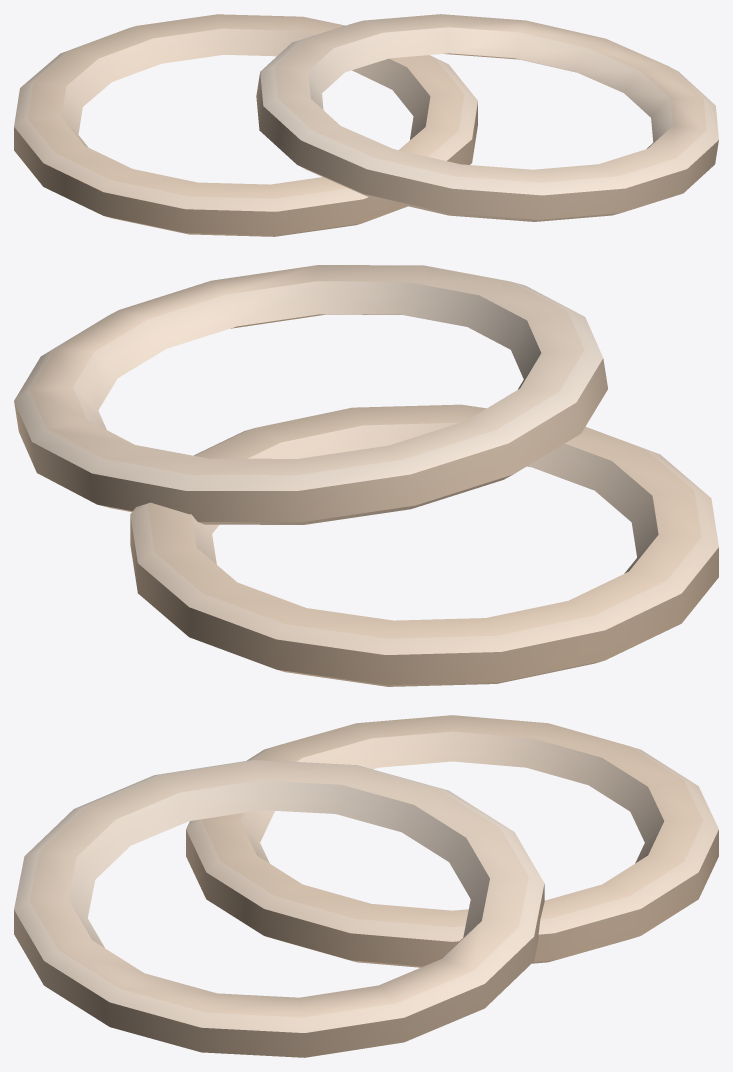
Rendered from ing_onion_rings.glb.
3 renders of one model, top to bottom at view 1: azimuth 30°, elevation 25°; view 2: azimuth 150°, elevation 25°; view 3: azimuth 270°, elevation 25°, orthographic. The views are drawn at different scales.
Visible parts, largest first — view 1: food_ingredient_onion_rings_Sphere.063; view 2: food_ingredient_onion_rings_Sphere.063; view 3: food_ingredient_onion_rings_Sphere.063.
Part boxes in pixels (left/top/right/bottom): food_ingredient_onion_rings_Sphere.063: left=14, top=14, right=718, bottom=236; food_ingredient_onion_rings_Sphere.063: left=14, top=265, right=718, bottom=686; food_ingredient_onion_rings_Sphere.063: left=14, top=715, right=718, bottom=1057.
Size of the model in its own units: 0.7758 by 0.1064 by 0.7296.
1 material, 1 textured.
